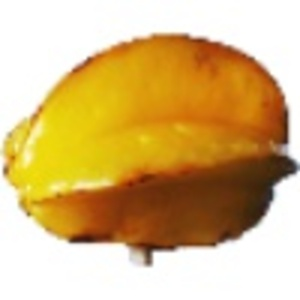carambola: (1, 32, 300, 268)
